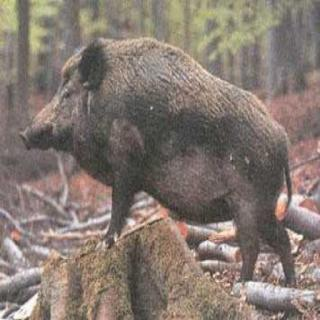Pig: (45, 31, 320, 249)
